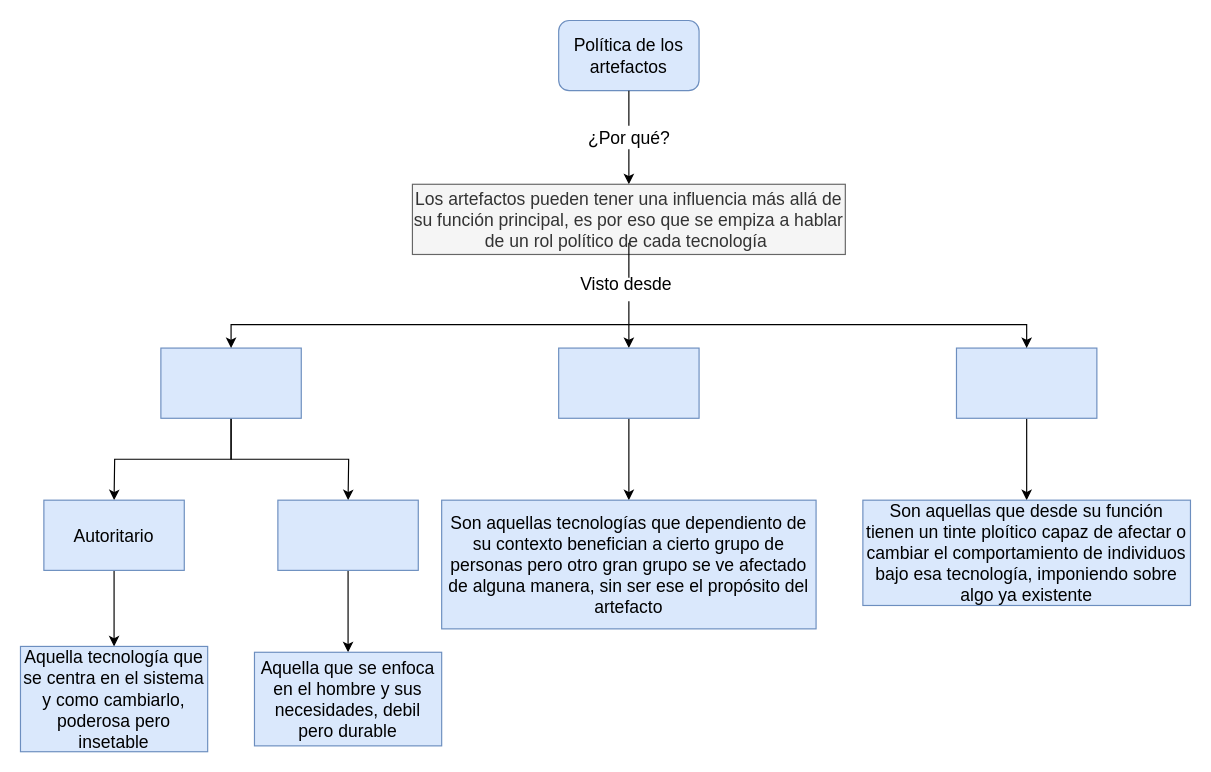
Some shapes in this 1211 by 772 pixel diagram are drawn without their labels. Each missing label, with the centre of its shape:
"Democrático" belongs at (x=347, y=534).
"Disposiciones técnicas y de orden social" belongs at (x=628, y=382).
"Tecnologías inherentemente políticas" belongs at (x=1026, y=382).
"Tipo de artefacto" belongs at (x=230, y=382).
